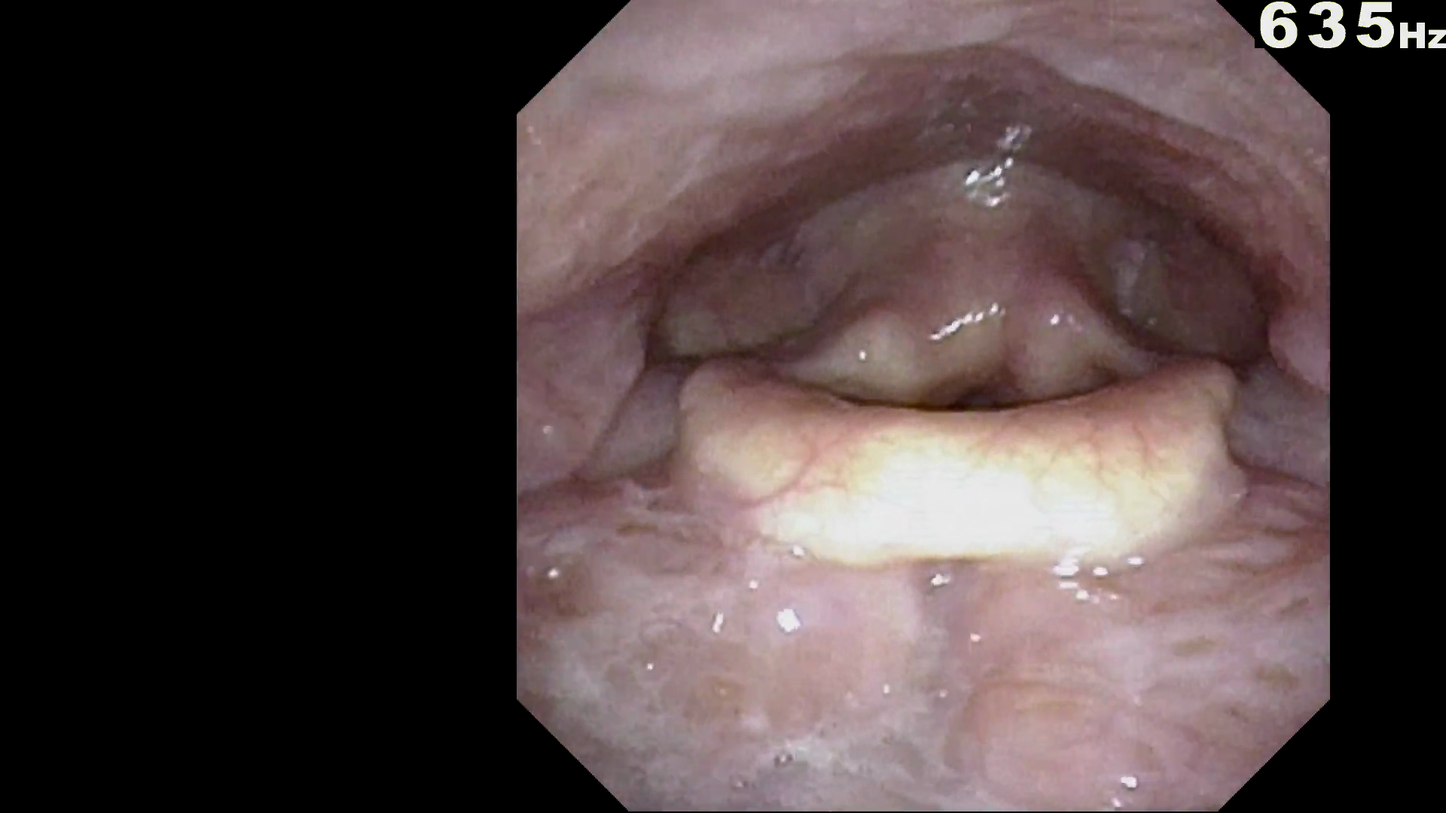epiglottis: (693, 361, 1273, 580)
